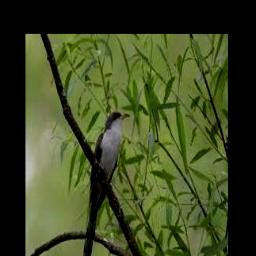Cuckoo: (82, 111, 129, 256)
